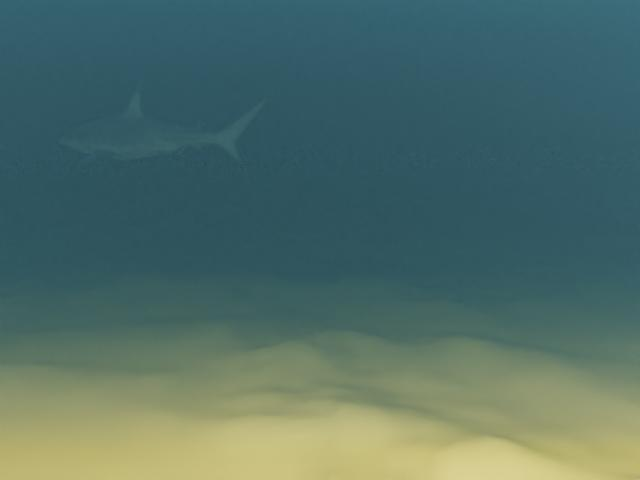Carribean Shark.001: (59, 86, 273, 167)
